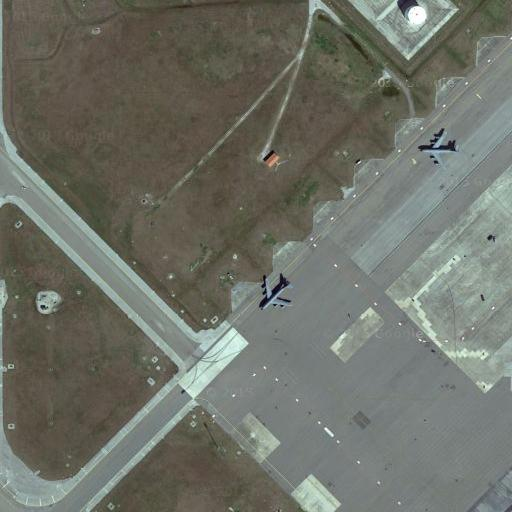KC-135: (416, 126, 462, 172), (256, 270, 297, 314)
